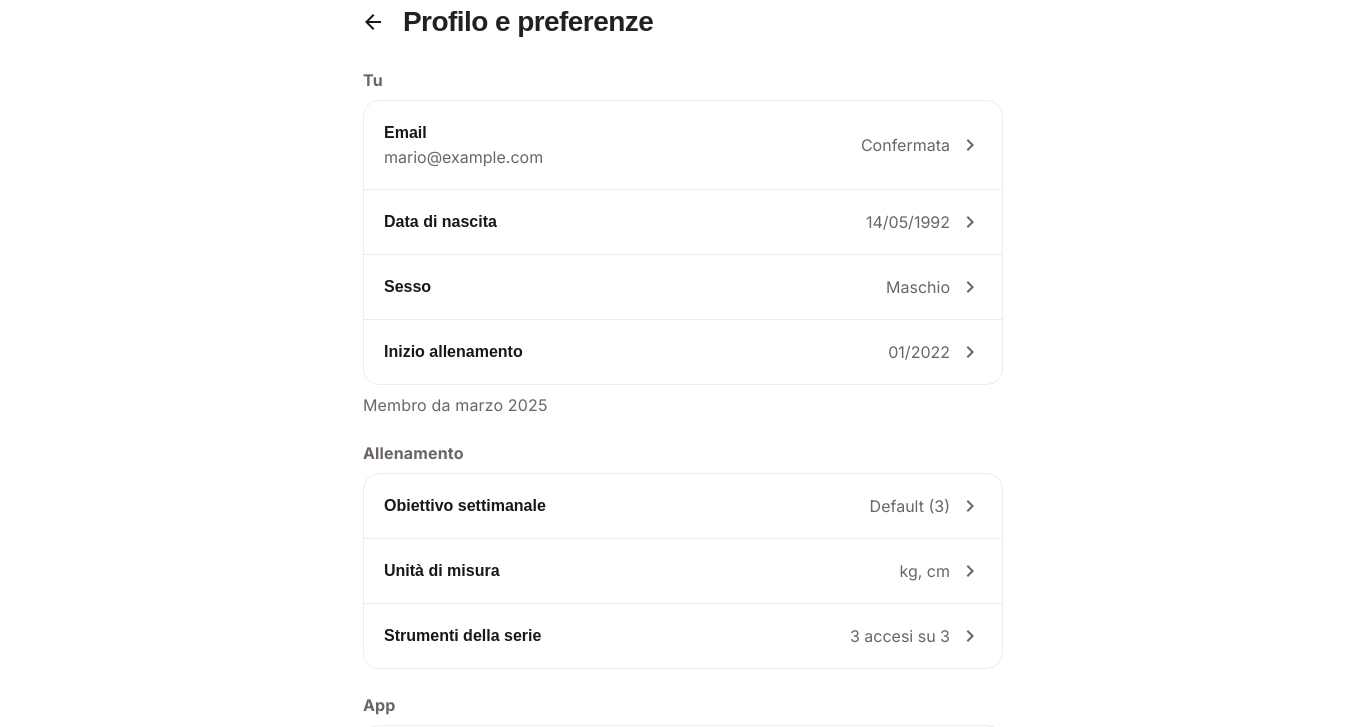
il gruppo «Tu»: le finestre › il titolo «Sesso» si legge una volta sola nella finestra, e il controllo ha il suo nome
Click the button "Sesso Maschio": (408, 286) [364, 255, 1002, 319]
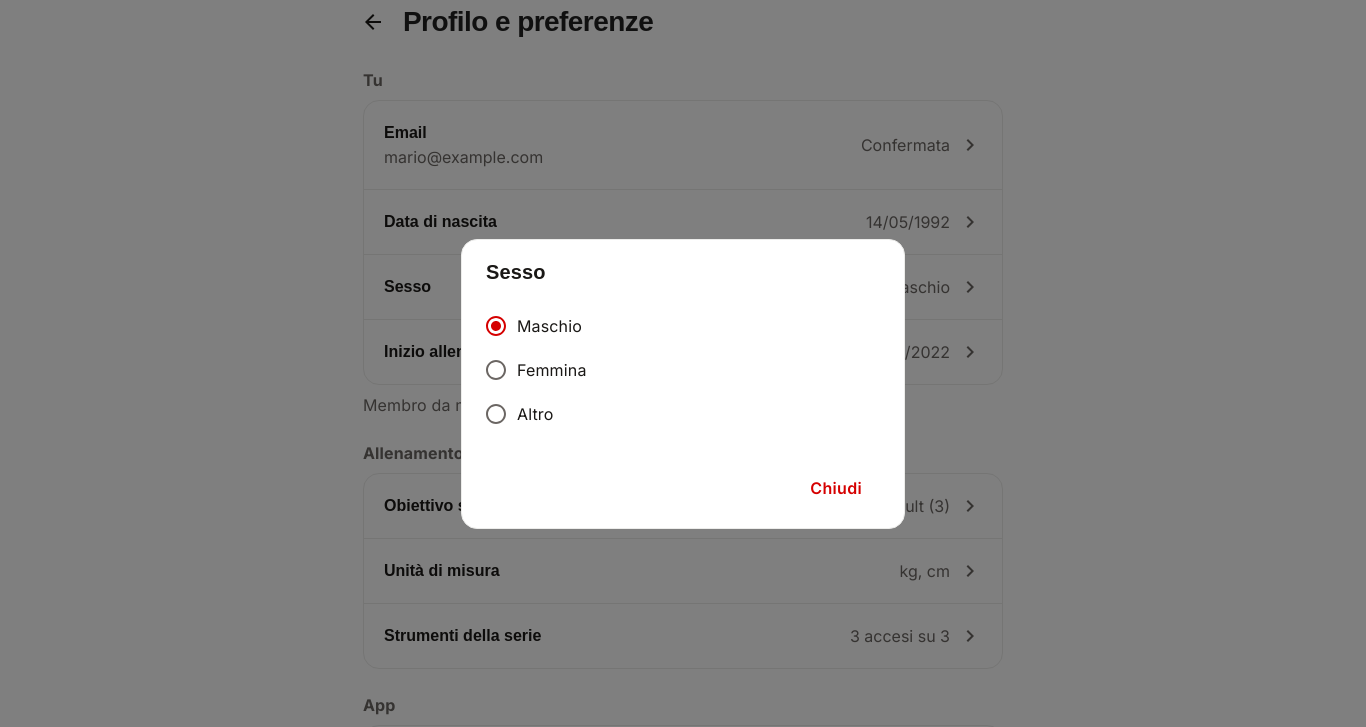
Check: the heading "Sesso" is shown, box [486, 261, 546, 283]
Check: the element named "Sesso" is shown, box [484, 314, 586, 426]
